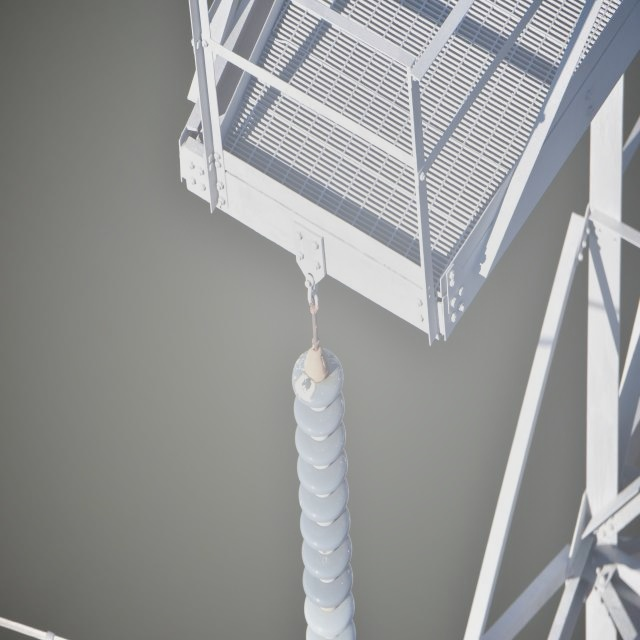insulator: (292, 344, 359, 640)
